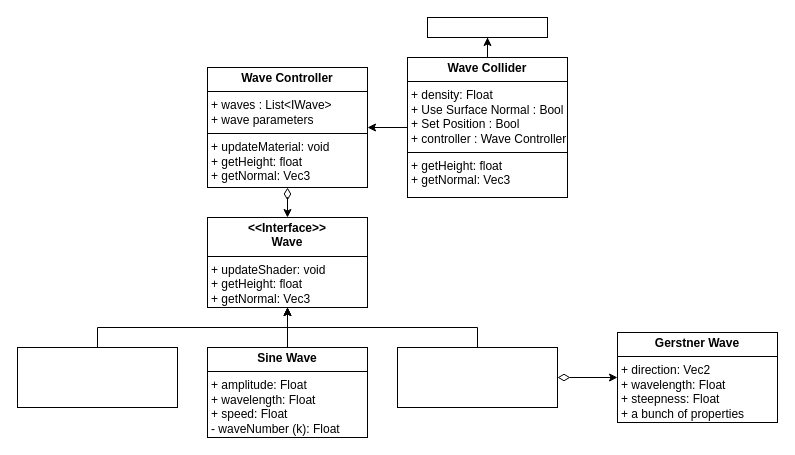
The diagram is 795 pixels wide and 455 high, and some of its shapes have lost their labels. The shapes that lost their labels are listed below. From the top down, each one's centre as x and y in pixels, then its label:
(x=487, y=27): Physics Collider
(x=97, y=377): Flat Wave + getHeight: float -> 0 + getNormal: Vec3 -> Up
(x=477, y=377): Gerstner Waves + waves: List<Gerstner Wave>
